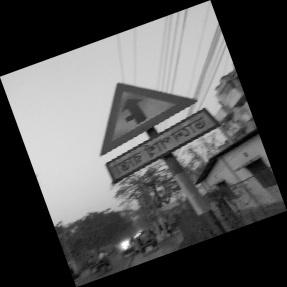Side-road-right: (99, 83, 221, 220)
